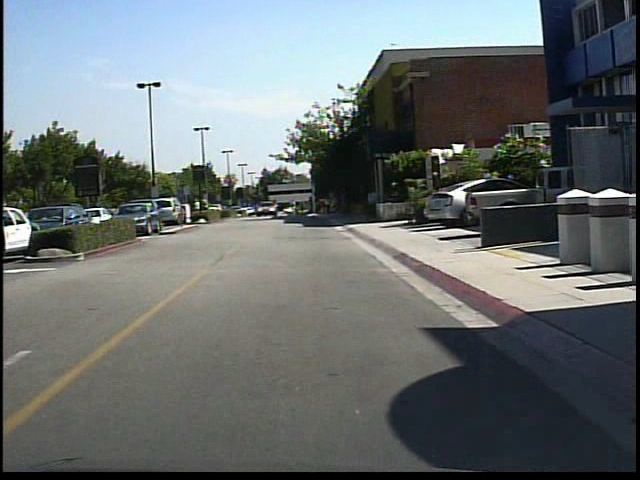person: (191, 191, 207, 219), (287, 195, 303, 222)
